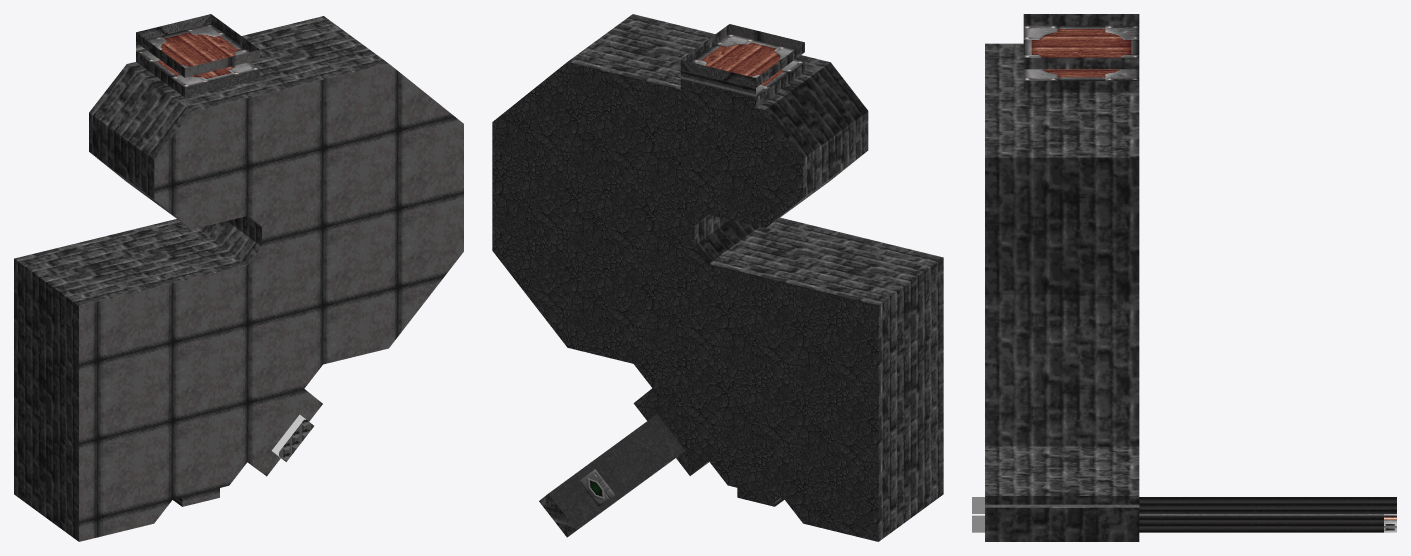
The model's file is map01_sect03.obj.
3 renders of one model, left to right at view 1: azimuth 30°, elevation 25°; view 2: azimuth 150°, elevation 25°; view 3: azimuth 270°, elevation 25°, orthographic. The views are drawn at different scales.
Parts seen in each view (by area): view 1: F_DECK, BRKGRY01, DORWS01, F_GDCONC, F_BASHXL, F_GRDLIT; view 2: F_CONCRP, BRKGRY01, SWLITE01, DORWS01, F_UNDOOR, F_BASHXL, F_DECK, F_BRKTOP; view 3: BRKGRY01, TRAMJON, DORWS01, SWLITE01.
Part boxes in pixels (<box>): F_DECK: <box>79,49,463,541</box>; BRKGRY01: <box>14,14,388,541</box>; DORWS01: <box>136,24,259,87</box>; F_GDCONC: <box>185,69,259,97</box>; F_BASHXL: <box>136,14,211,39</box>; F_GRDLIT: <box>277,418,313,461</box>; F_CONCRP: <box>492,62,878,541</box>; BRKGRY01: <box>568,14,943,541</box>; SWLITE01: <box>548,414,684,529</box>; DORWS01: <box>691,34,804,97</box>; F_UNDOOR: <box>680,70,755,97</box>; F_BASHXL: <box>680,60,755,87</box>; F_DECK: <box>729,24,804,49</box>; F_BRKTOP: <box>539,494,576,537</box>; BRKGRY01: <box>985,14,1139,541</box>; TRAMJON: <box>1139,497,1396,532</box>; DORWS01: <box>1023,25,1139,80</box>; SWLITE01: <box>985,504,1383,515</box>.
Size of the model in its own units: 656 by 704 by 528.
